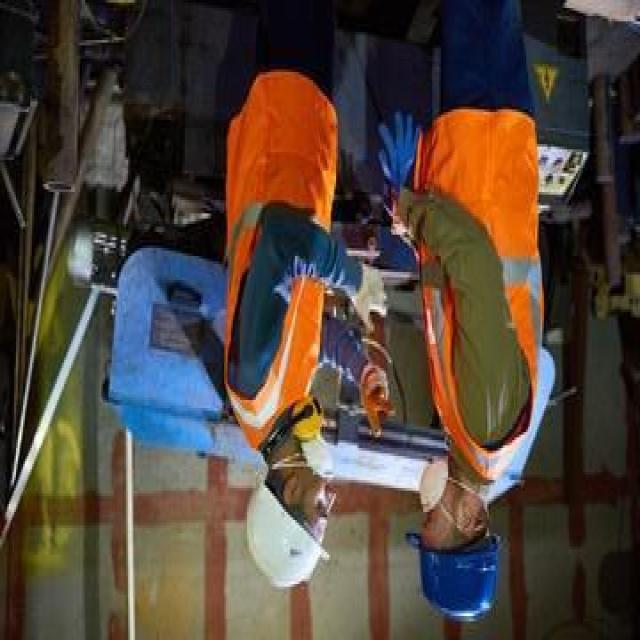helmet: (242, 473, 340, 606), (399, 530, 501, 636)
jacket: (388, 101, 554, 481), (202, 58, 351, 434)
